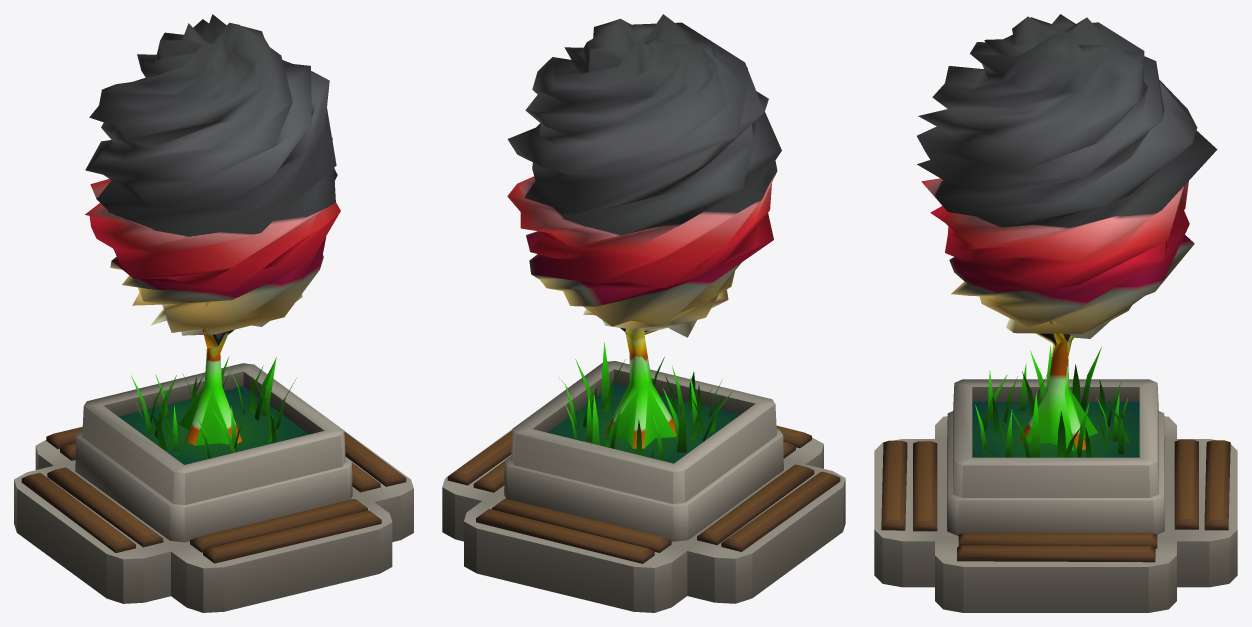
File: Bench_2A.fbx
3 views of the same model, side by side, from view 1: azimuth 30°, elevation 25°; view 2: azimuth 150°, elevation 25°; view 3: azimuth 270°, elevation 25° (orthographic). The views are drawn at different scales.
Parts seen in each view (by area): view 1: Bench_2A, Bench_2A_Tree; view 2: Bench_2A, Bench_2A_Tree; view 3: Bench_2A_Tree, Bench_2A.
Boxes of the visible parts, x1=… form: Bench_2A: x1=14, y1=356, x2=413, y2=612; Bench_2A_Tree: x1=85, y1=14, x2=340, y2=445; Bench_2A: x1=442, y1=342, x2=845, y2=612; Bench_2A_Tree: x1=507, y1=14, x2=781, y2=448; Bench_2A_Tree: x1=917, y1=14, x2=1217, y2=450; Bench_2A: x1=874, y1=346, x2=1237, y2=612.
Bounding box in the file's own units: 500 × 785 × 500.
